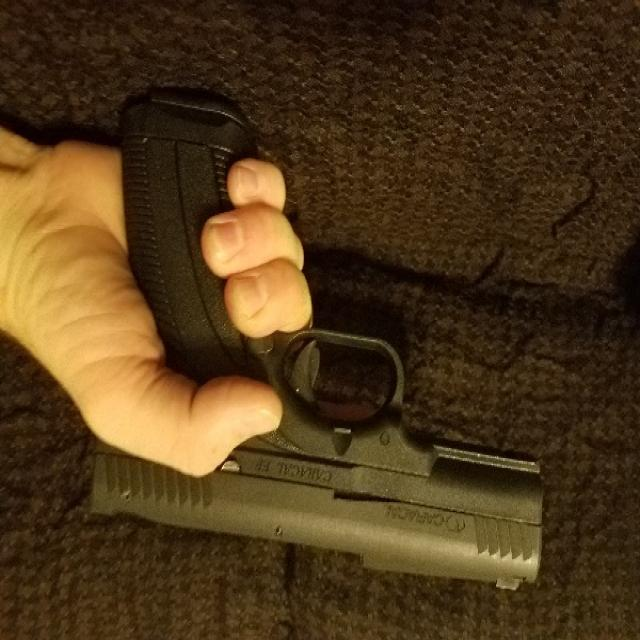Gun: (124, 92, 548, 586)
